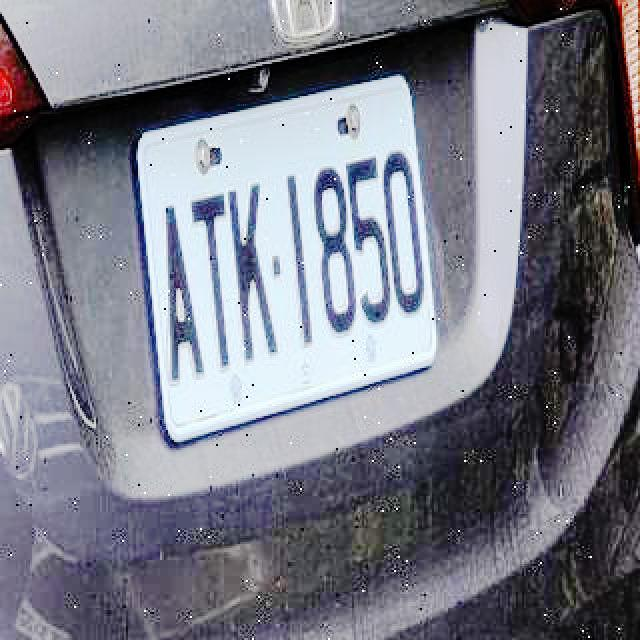license_plate: (141, 80, 439, 430)
